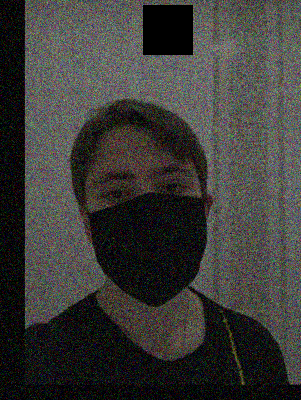with_mask: (88, 145, 207, 307)
